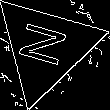N_E: (16, 21, 76, 73)
